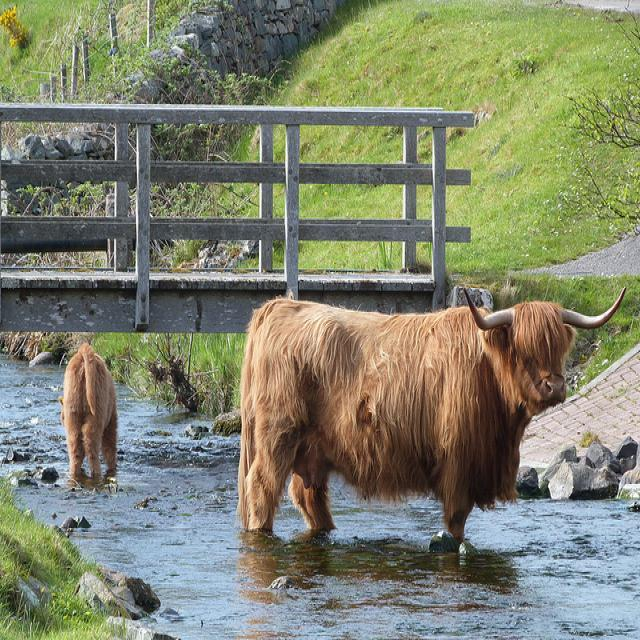cow: (236, 282, 627, 538), (58, 340, 115, 480)
